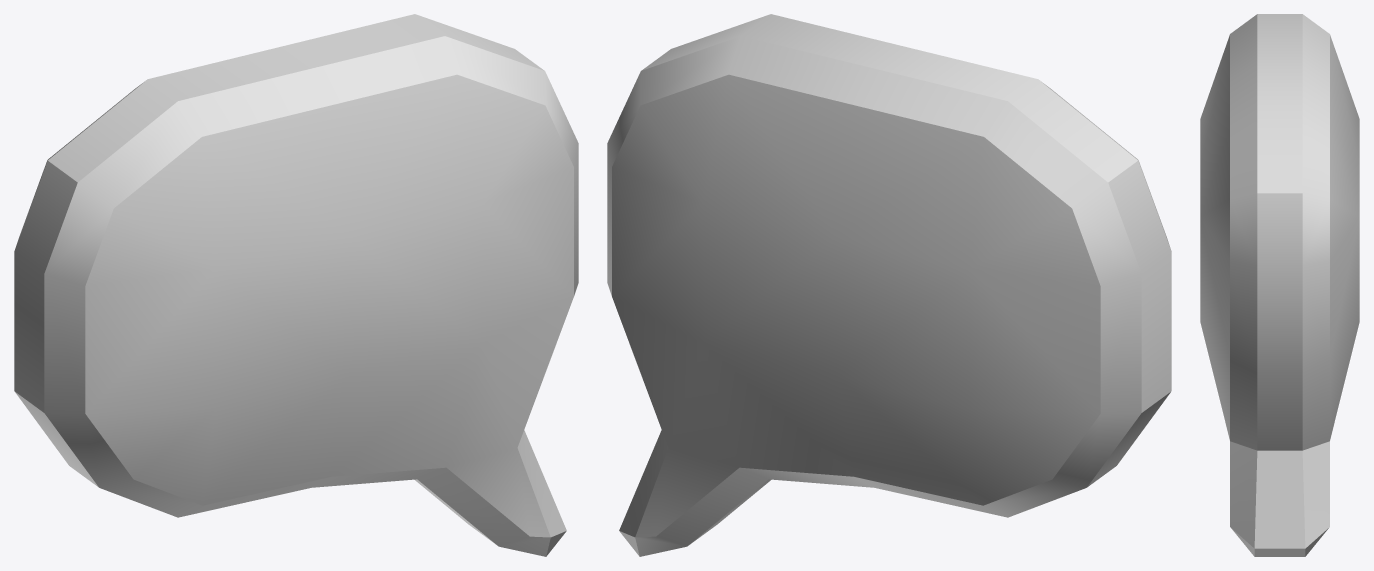
File: ChatBubble.fbx
The picture shows the model from 3 angles, left to right: view 1: azimuth 30°, elevation 25°; view 2: azimuth 150°, elevation 25°; view 3: azimuth 270°, elevation 25°; orthographic projection. The views are drawn at different scales.
Parts seen in each view (by area): view 1: ChatBubble; view 2: ChatBubble; view 3: ChatBubble.
Boxes of the visible parts, x1=… form: ChatBubble: x1=14, y1=14, x2=578, y2=556; ChatBubble: x1=607, y1=14, x2=1171, y2=556; ChatBubble: x1=1200, y1=14, x2=1359, y2=556.
Size of the model in its own units: 2.72 by 2.64 by 0.9341.
Materials: 1 (1 with a texture image).
